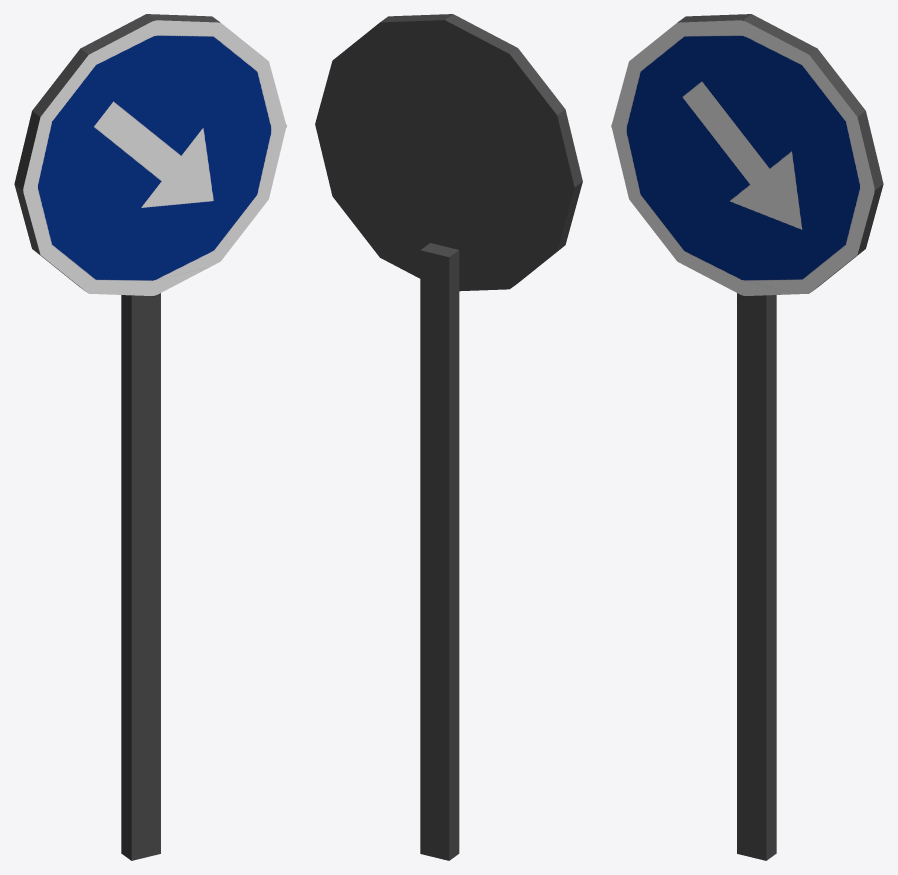
Rendered from traffic_sign_lane.glb.
3 renders of one model, left to right at view 1: azimuth 30°, elevation 25°; view 2: azimuth 150°, elevation 25°; view 3: azimuth 330°, elevation 25°, orthographic.
Visible parts, largest first — view 1: Circle, Plane; view 2: Circle, Plane; view 3: Circle, Plane.
Part boxes in pixels (x1,y1,x2,y2): Circle: (14,14,286,296); Plane: (121,293,160,860); Circle: (315,14,582,291); Plane: (420,243,459,860); Circle: (611,14,883,296); Plane: (737,293,776,860).
Size of what is drawn, in the model's own units: 0.9 by 2.75 by 0.11.
3 materials, 1 textured.
